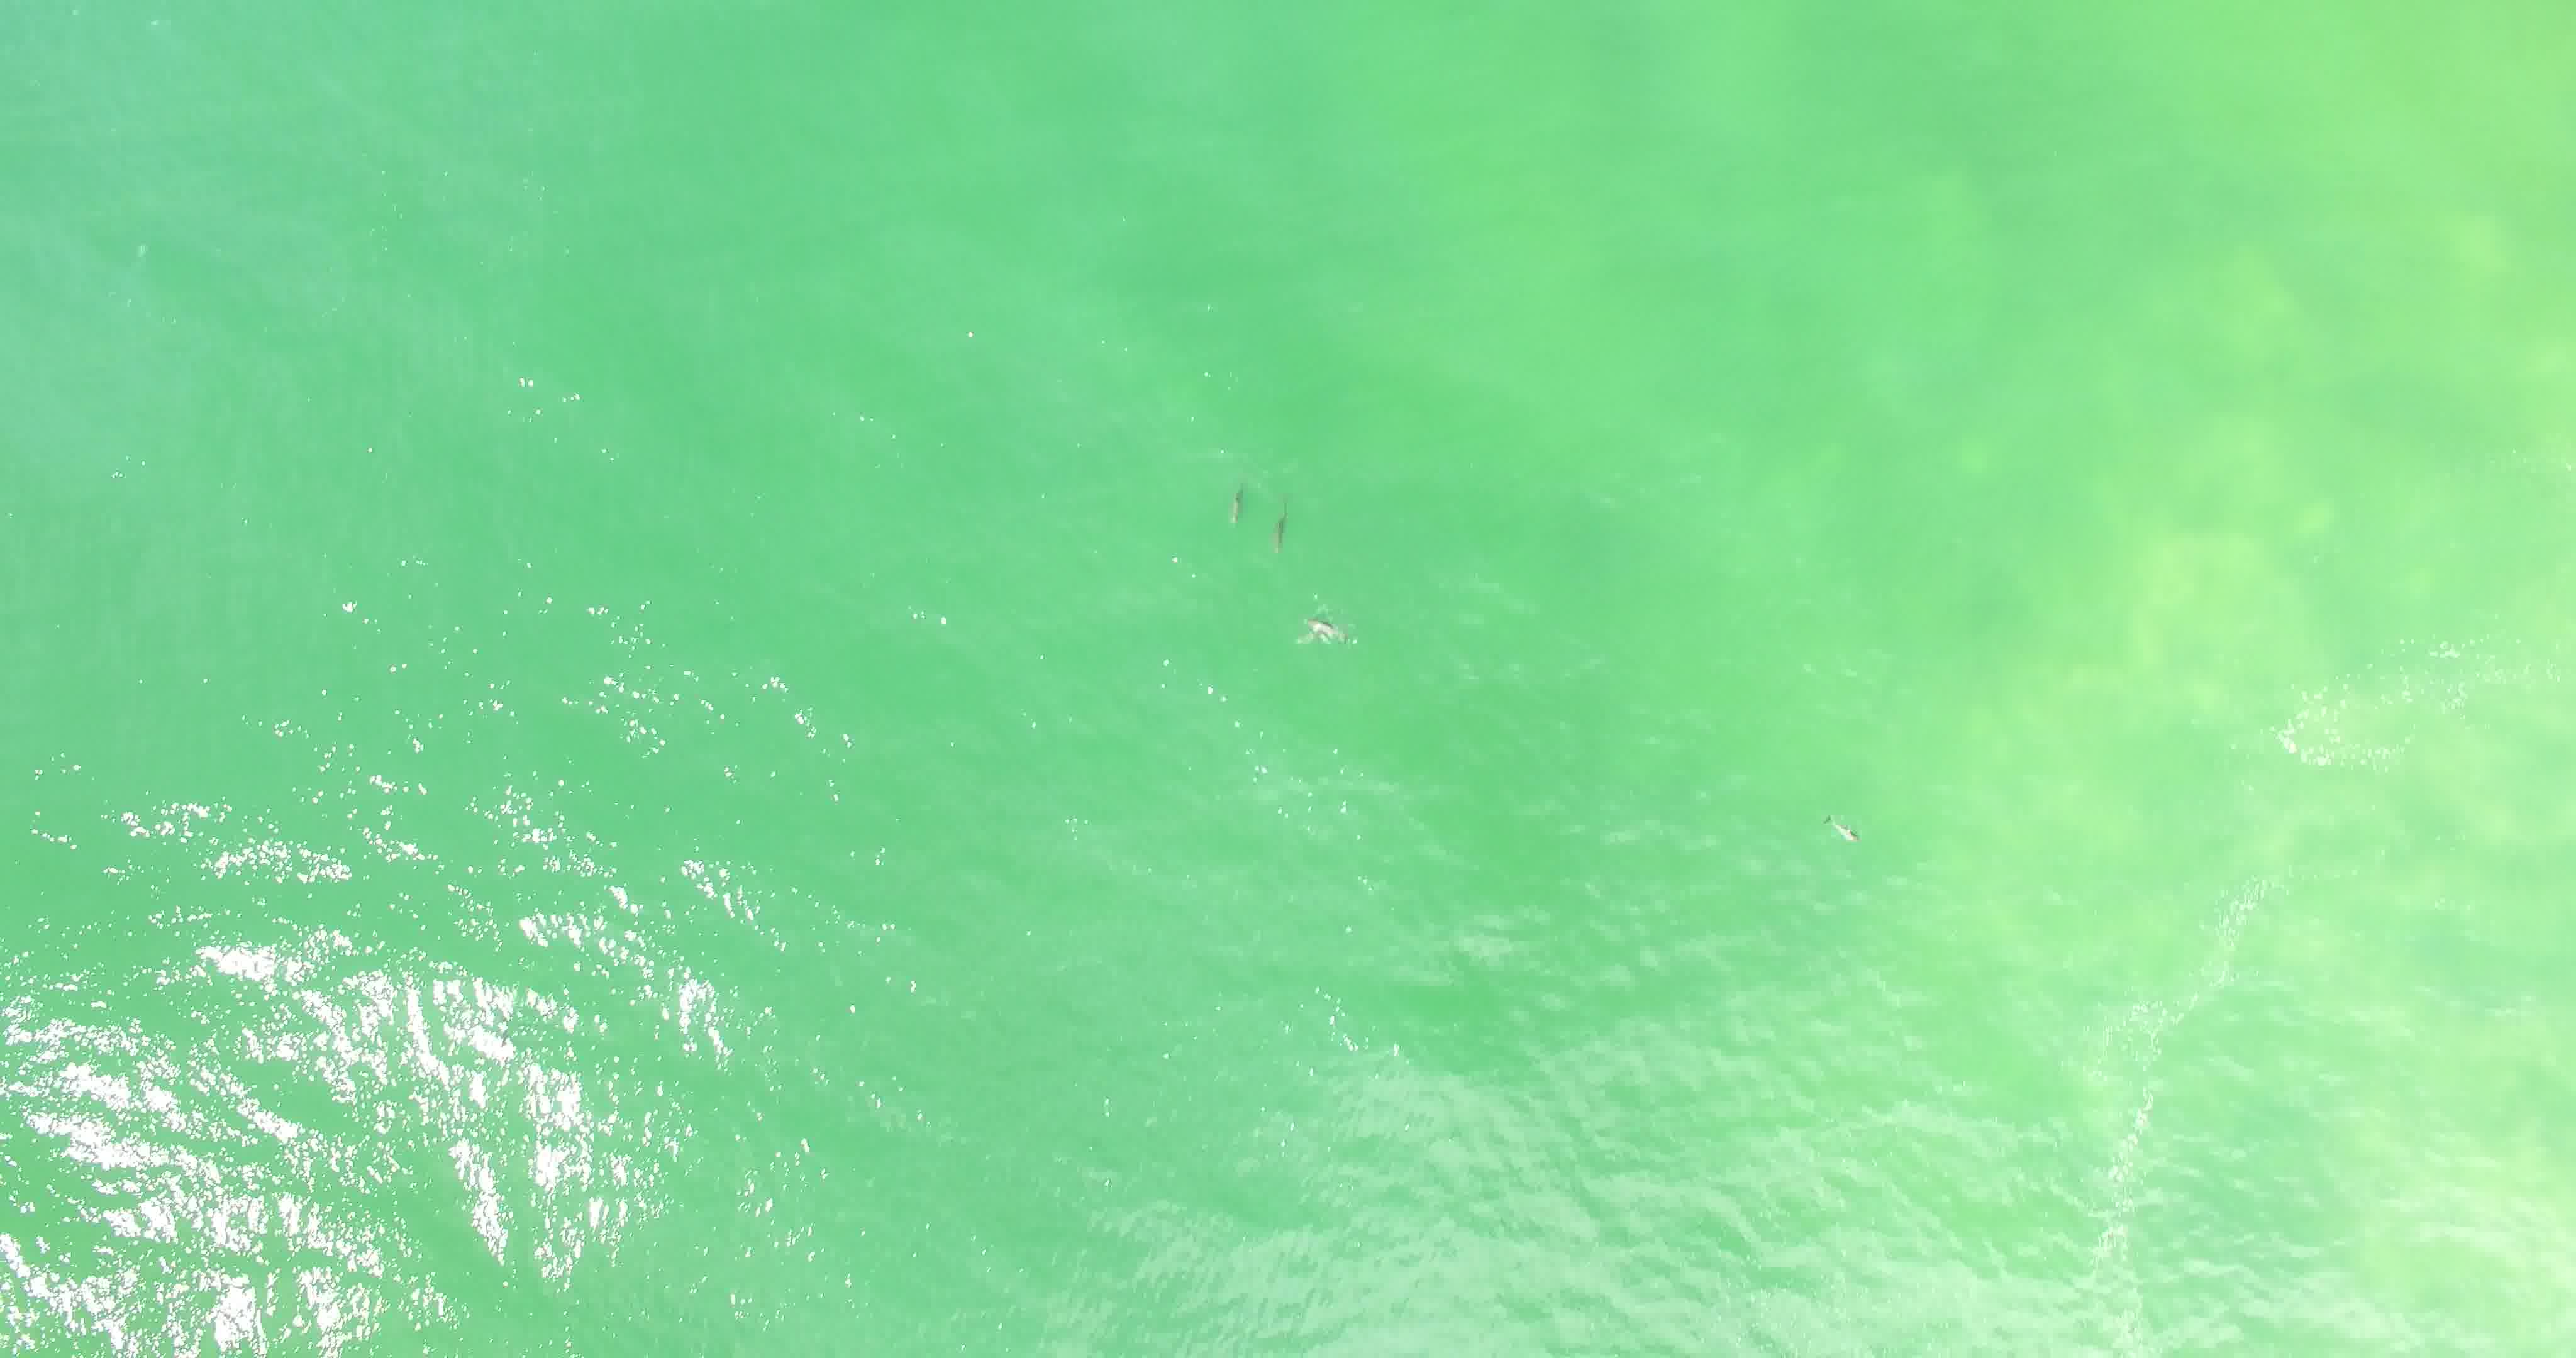dolphin: (1278, 588, 1368, 663), (1809, 797, 1879, 862), (1251, 475, 1302, 554), (1205, 460, 1256, 533)
